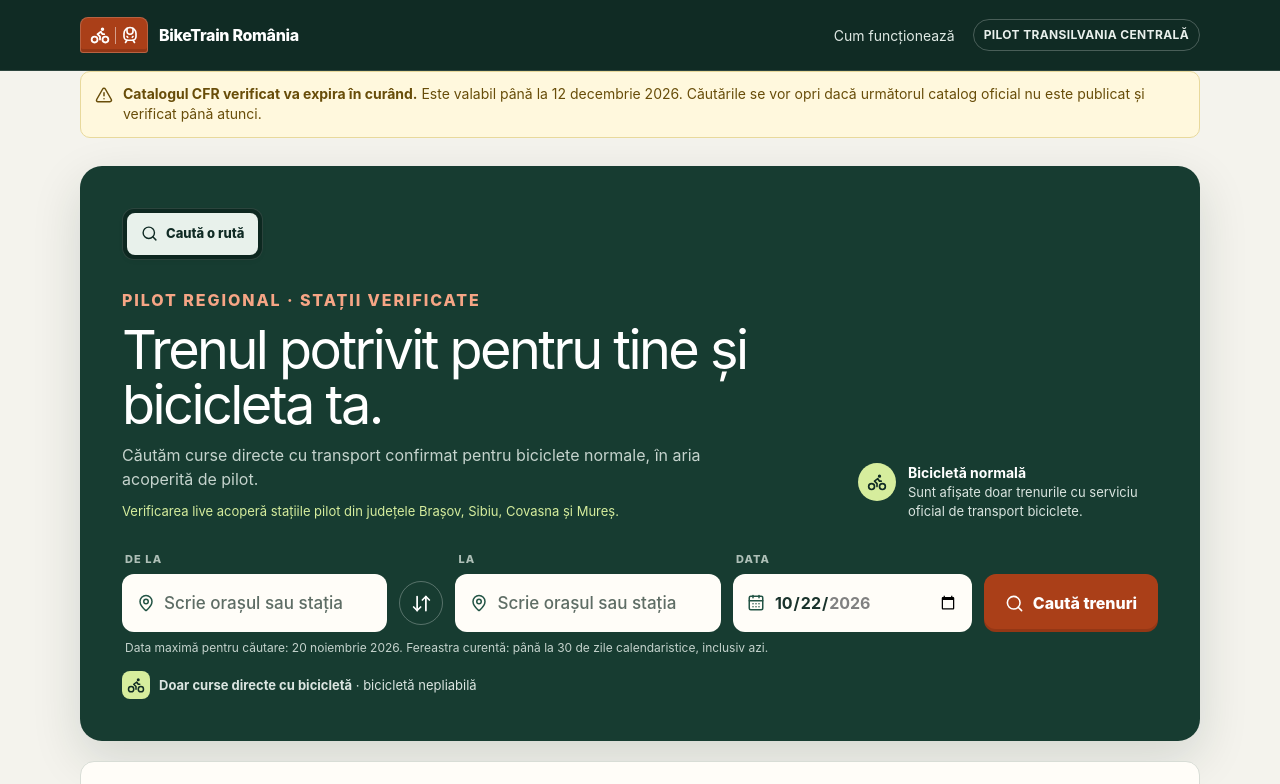
it: BikeTrain app › asks for valid stations before starting a route search
Step 1. Click the button "Caută trenuri" → x=1071, y=604, box [984,574,1158,632]
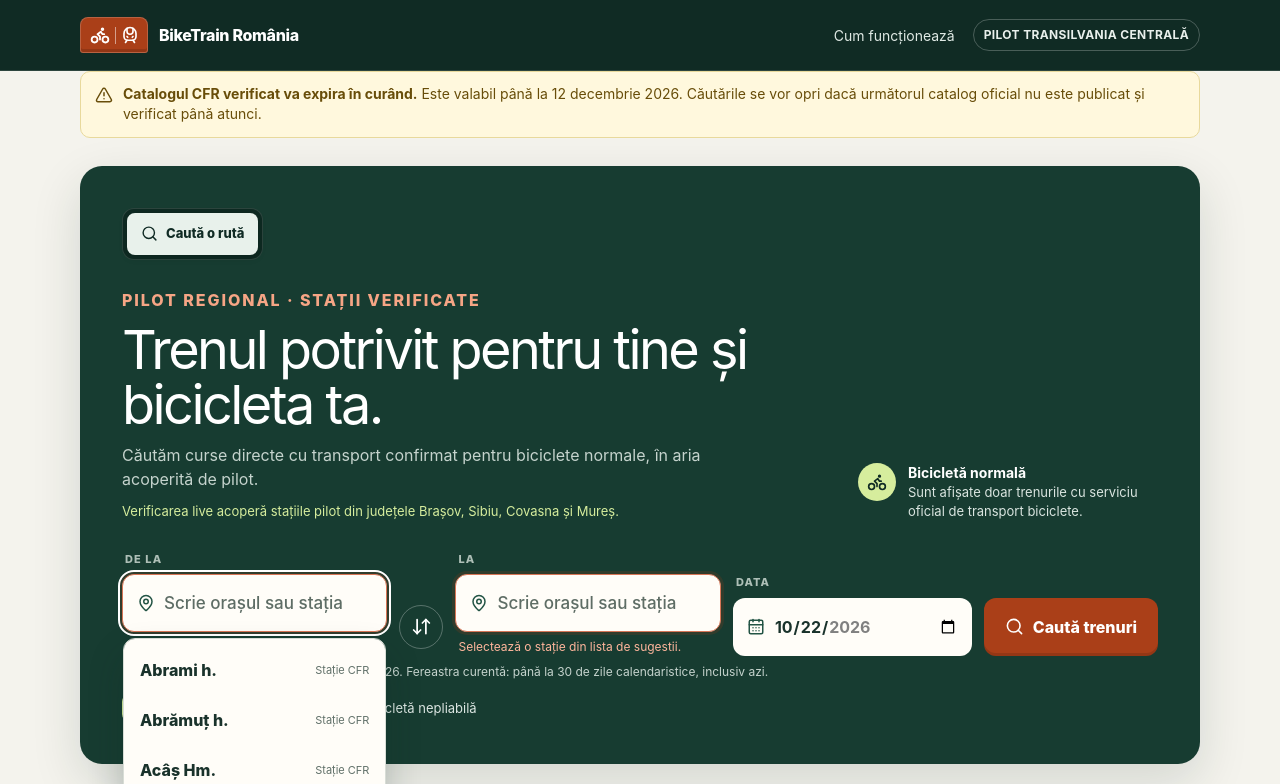
expect the text "Selectează o stație din lista de sugestii." is shown 2 times: met, box [125,640,384,656]; [458,640,718,656]
